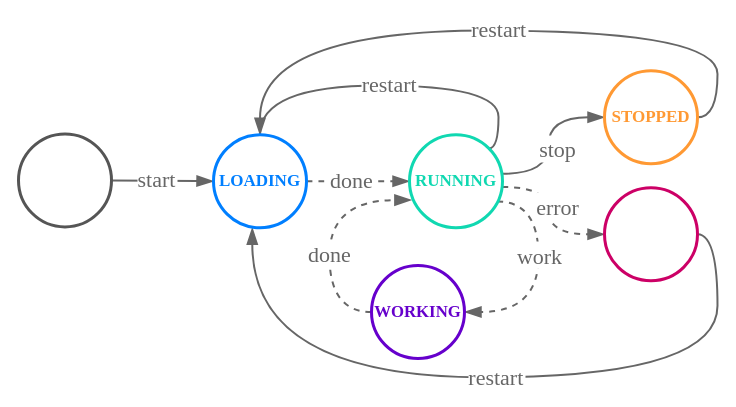
Image size: 736x407. Some labels were removed from this diagram. The centre of each missing label's shape, as x and y in pixels:
FAILED: [650,234]
IDLE: [64,180]
